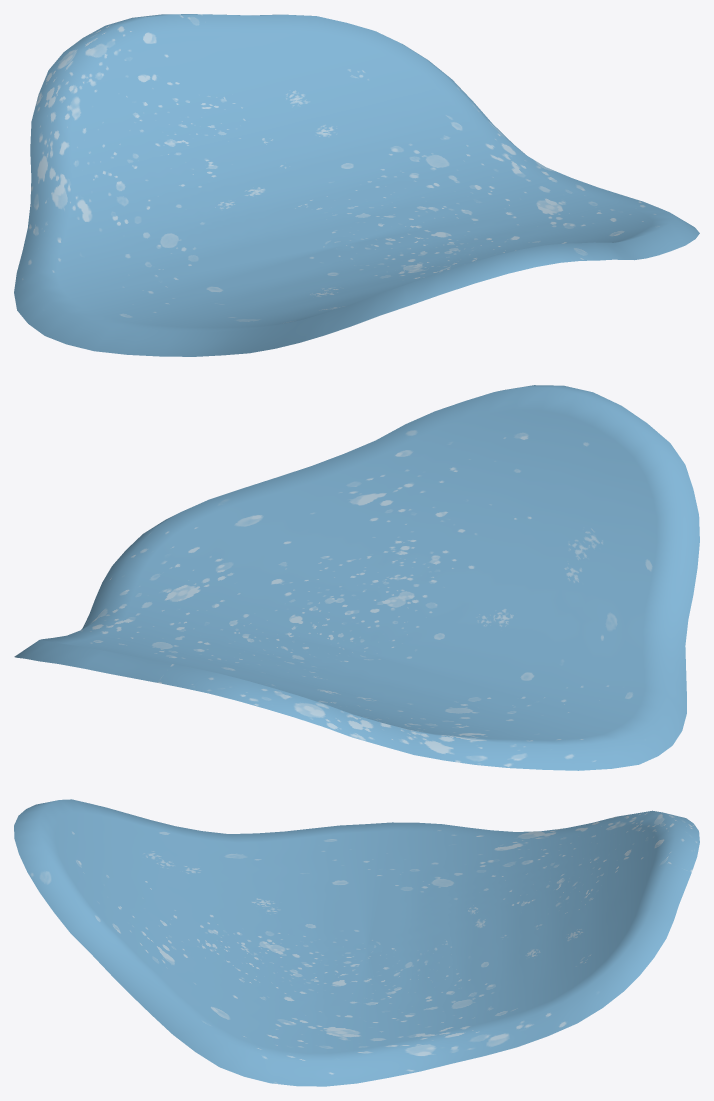
Rendered from Medium Water Puddle.fbx.
3 views of the same model, one above another, from view 1: azimuth 30°, elevation 25°; view 2: azimuth 150°, elevation 25°; view 3: azimuth 270°, elevation 25° (orthographic). The views are drawn at different scales.
Visible parts, largest first — view 1: Medium; view 2: Medium; view 3: Medium.
Part boxes in pixels (x1,y1,x2,y2): Medium: (14,14,699,356); Medium: (14,385,699,770); Medium: (14,799,699,1086).
Bounding box in the file's own units: 29.98 × 7.08 × 33.21.
Materials: 1 (1 with a texture image).
